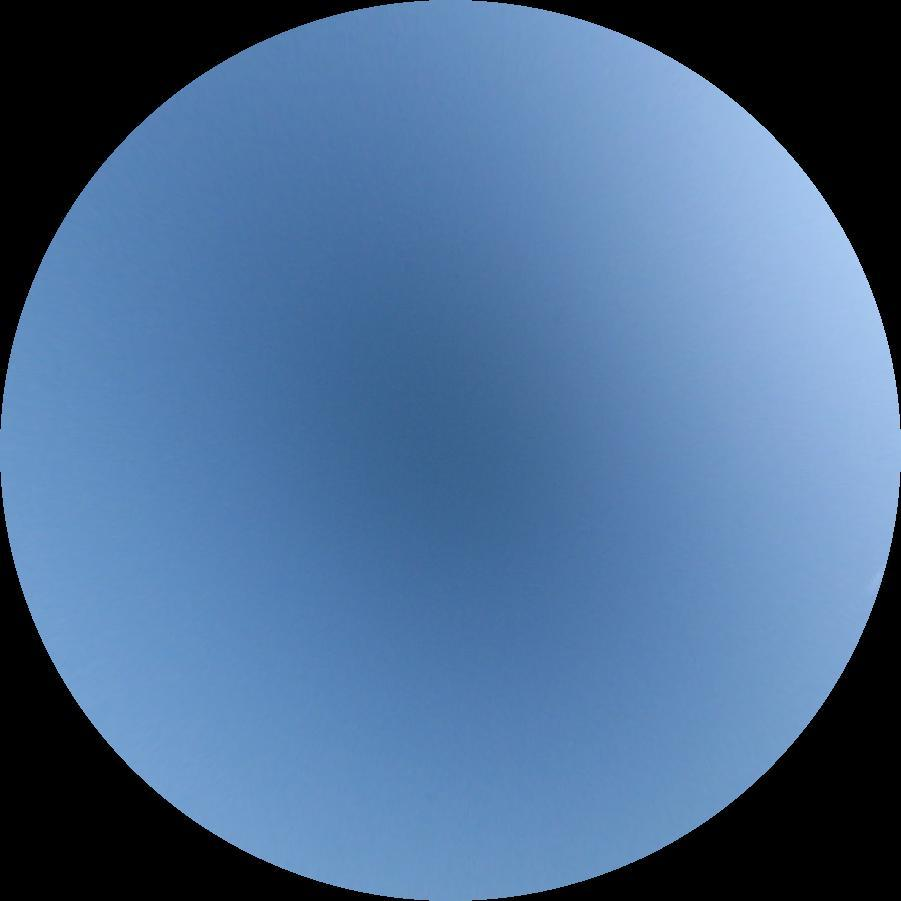contrail young: (864, 567, 890, 596)
